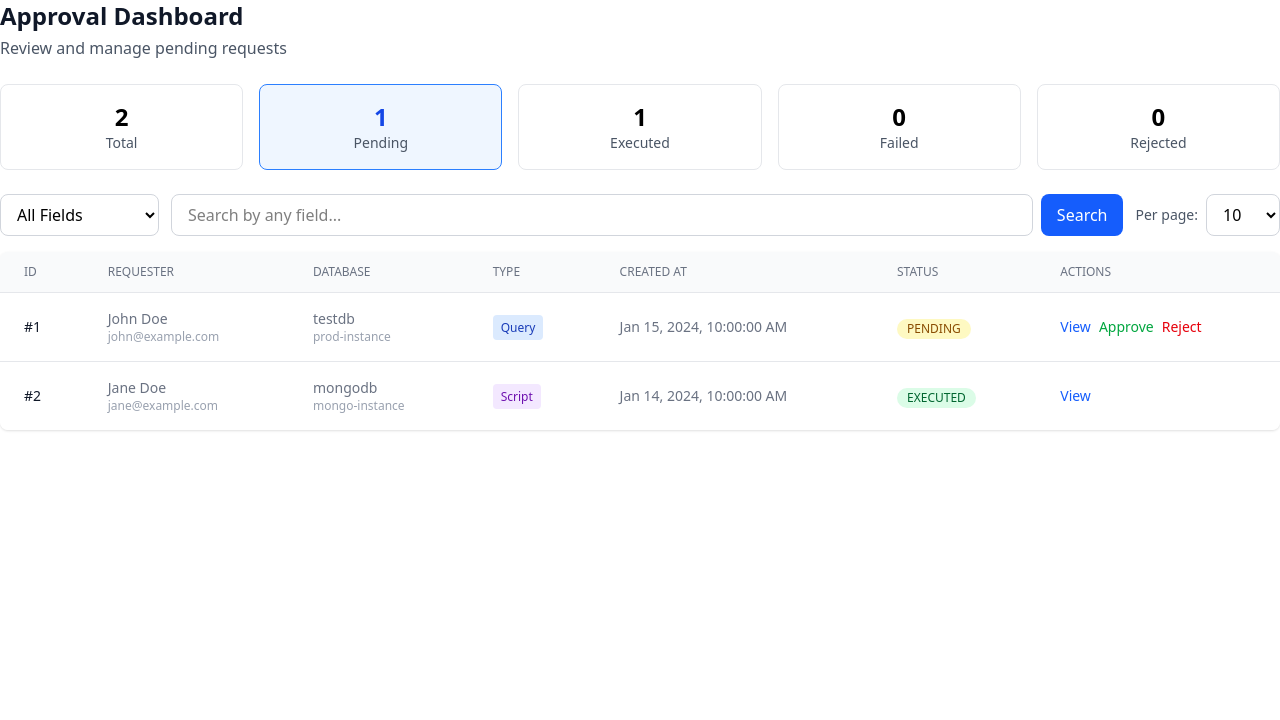
Test: ApprovalDashboard › should show error when reject without reason
The image size is (1280, 720).
Expected: the text "#1" is shown, 0,292 -> 84,362
Click the button "Reject" at x=1182, y=327, box 1162,317 -> 1202,337
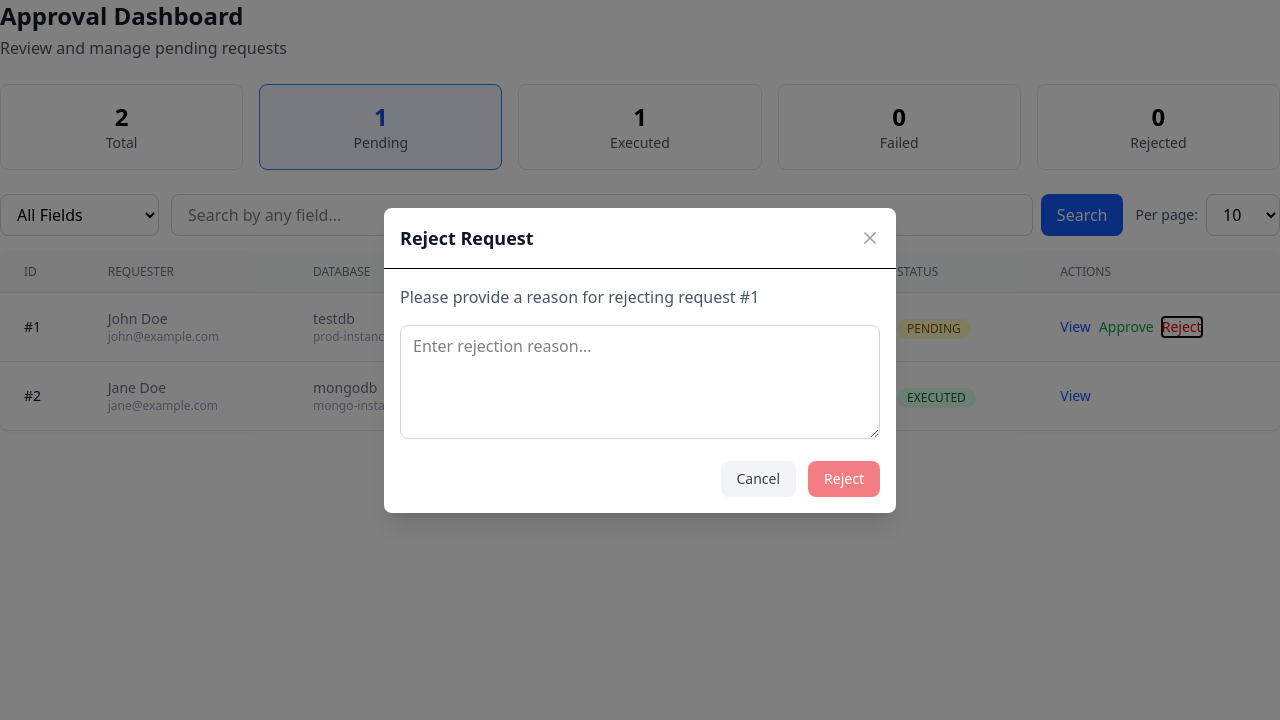
Expected: the text "Please provide a reason for rejecting request #1" is shown, 400,286 -> 759,308
Expected: the button "Reject" is disabled, 808,460 -> 880,496
